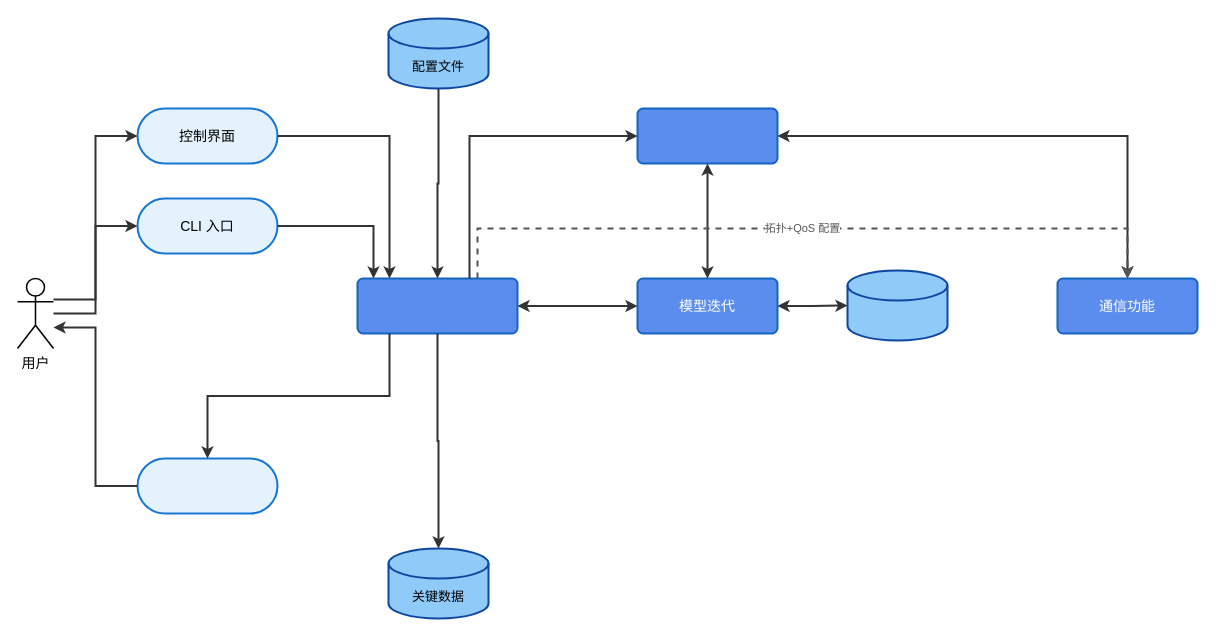
The diagram is 1216 pixels wide and 636 high, and some of its shapes have lost their labels. Here are the shapes that lost their labels. From the top down, the centre of each, then its label:
At (707,135): "编队算法".
At (437,305): "仿真控制".
At (897,305): "飞行模型".
At (207,485): "实时显示".
